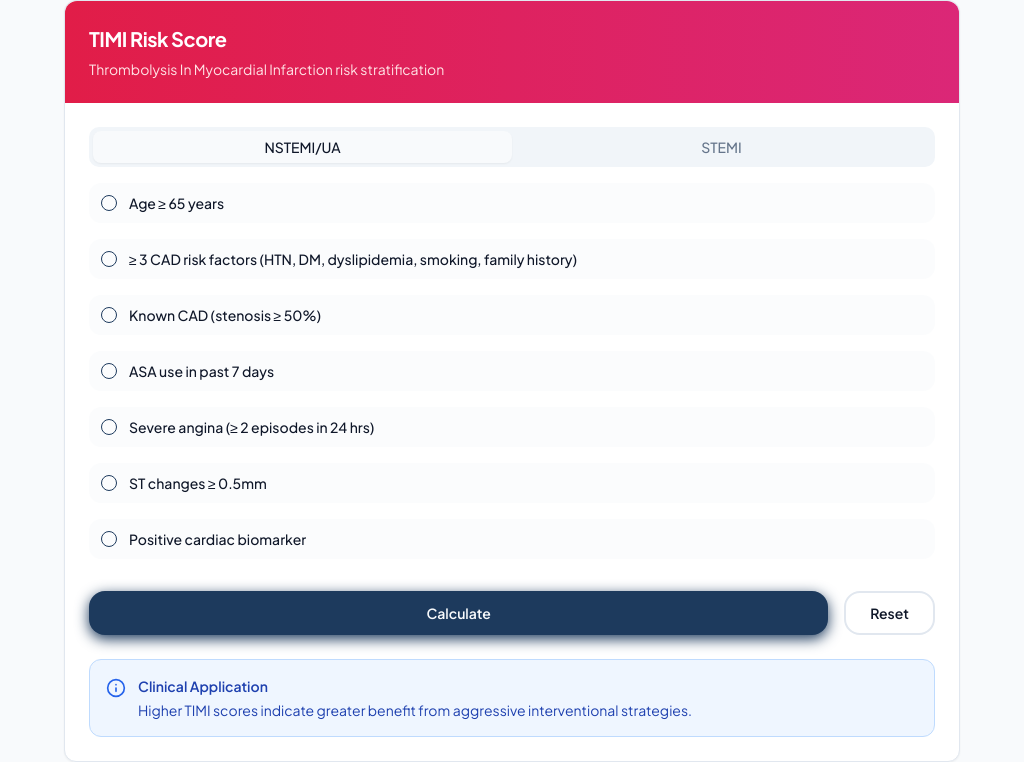
Test: TIMIScoreCalculator › Score Calculation › shows NSTEMI score denominator of 7
Click the button "Calculate" at (459, 613), box [89,591,828,635]
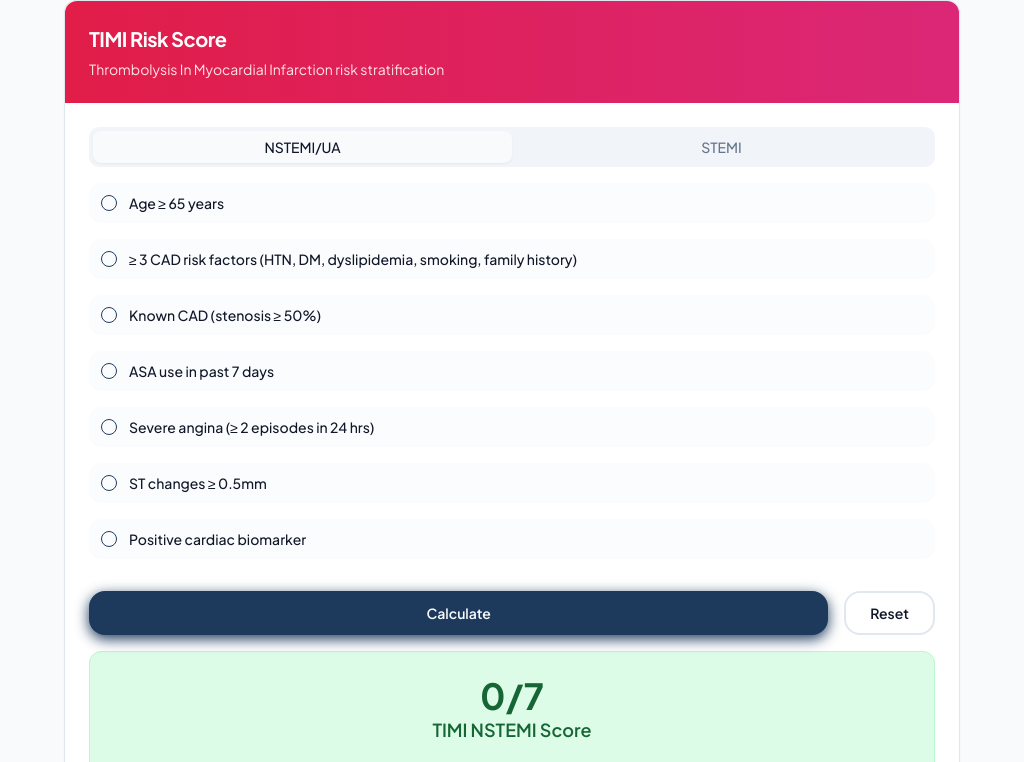
Check: the text "0/7" is shown, box [480,673,544,718]
